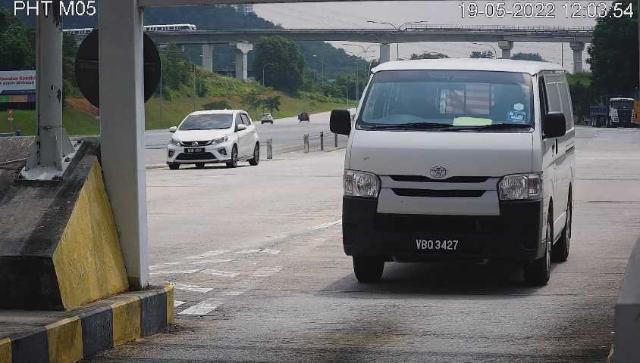License_Plate: (411, 235, 464, 258)
van: (343, 60, 575, 288)
